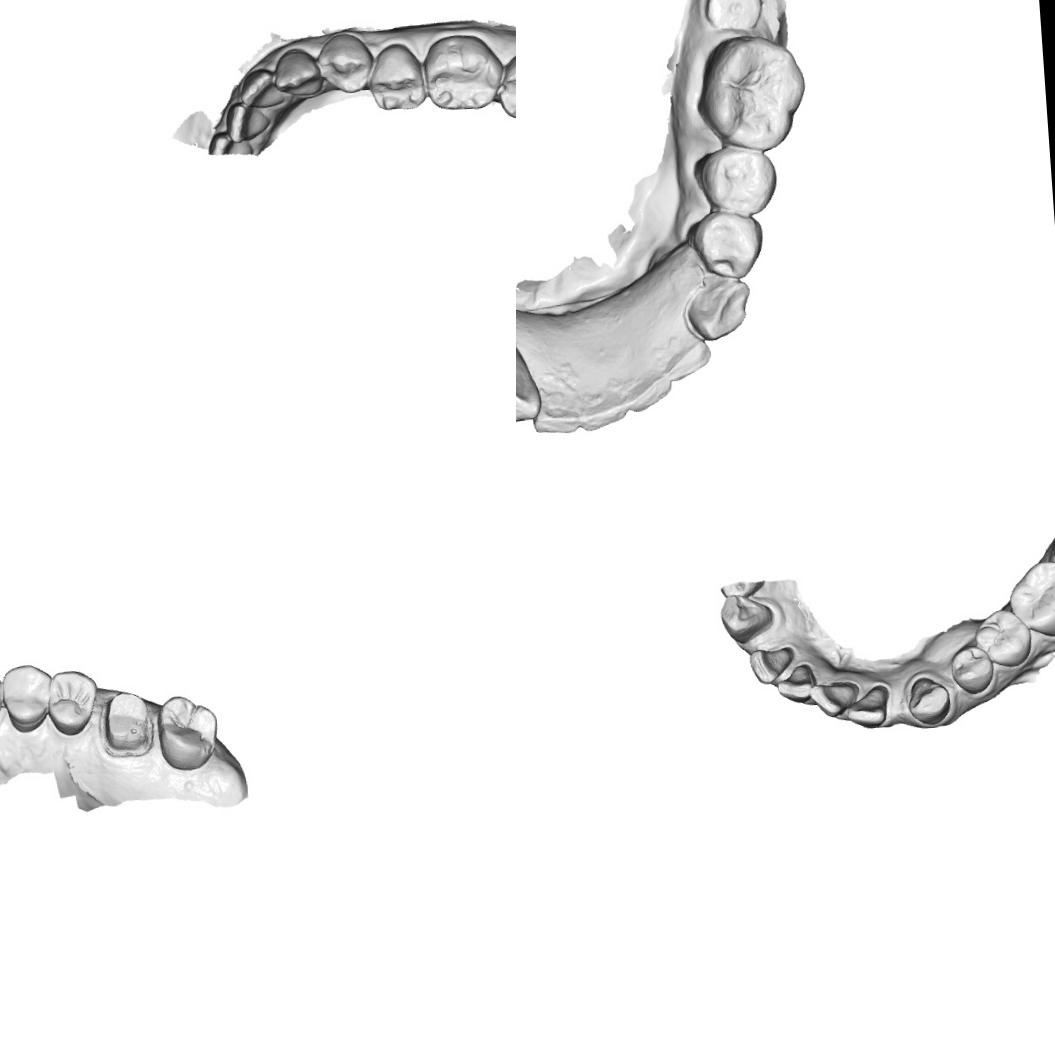canine: (682, 274, 750, 343), (714, 592, 776, 638), (516, 336, 544, 427), (274, 47, 321, 100), (905, 673, 952, 726)
crown: (99, 689, 153, 755)
implant: (704, 0, 762, 37)
incisor: (622, 370, 683, 418), (659, 334, 716, 384), (572, 390, 634, 435), (531, 397, 591, 441), (842, 682, 892, 730), (746, 643, 797, 686), (236, 67, 286, 109), (222, 101, 272, 142), (808, 679, 858, 718), (773, 662, 818, 705)
molar: (706, 40, 804, 143), (422, 33, 503, 115), (153, 690, 220, 773), (1003, 556, 1055, 640), (493, 45, 516, 132)
premolar: (700, 145, 782, 220), (366, 40, 428, 116), (696, 211, 762, 279), (971, 605, 1035, 671), (0, 660, 55, 734), (43, 667, 100, 738), (316, 34, 374, 95), (947, 643, 995, 697)
